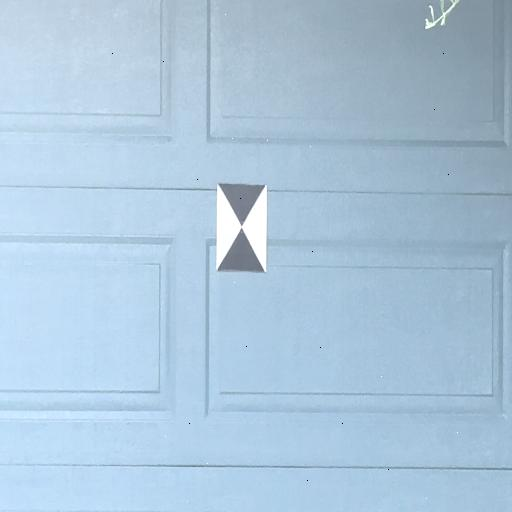target: (217, 184, 267, 273)
